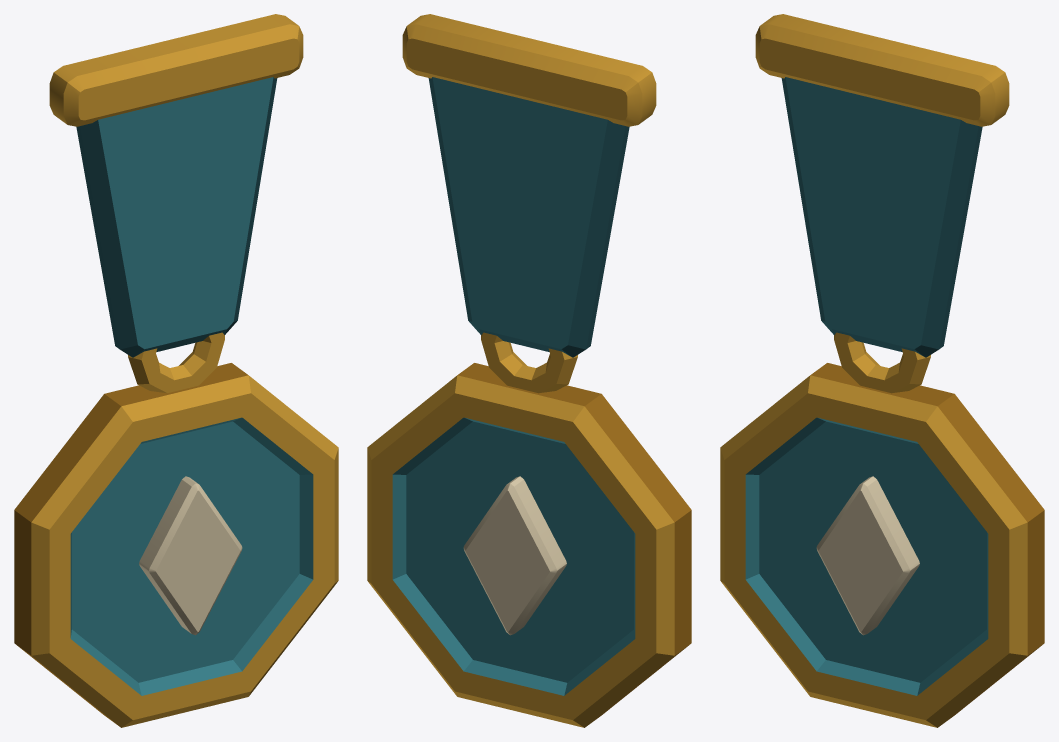
The model's file is Medal_14.glb.
3 views of the same model, side by side, from view 1: azimuth 30°, elevation 25°; view 2: azimuth 150°, elevation 25°; view 3: azimuth 330°, elevation 25° (orthographic).
Visible parts, largest first — view 1: Medal_14; view 2: Medal_14; view 3: Medal_14.
Boxes of the visible parts, box(x1,y1,x2,y2) form: Medal_14: box(14, 14, 338, 727); Medal_14: box(367, 14, 691, 727); Medal_14: box(720, 14, 1044, 727).
Size of the model in its own units: 1.14 by 2.35 by 0.28.
